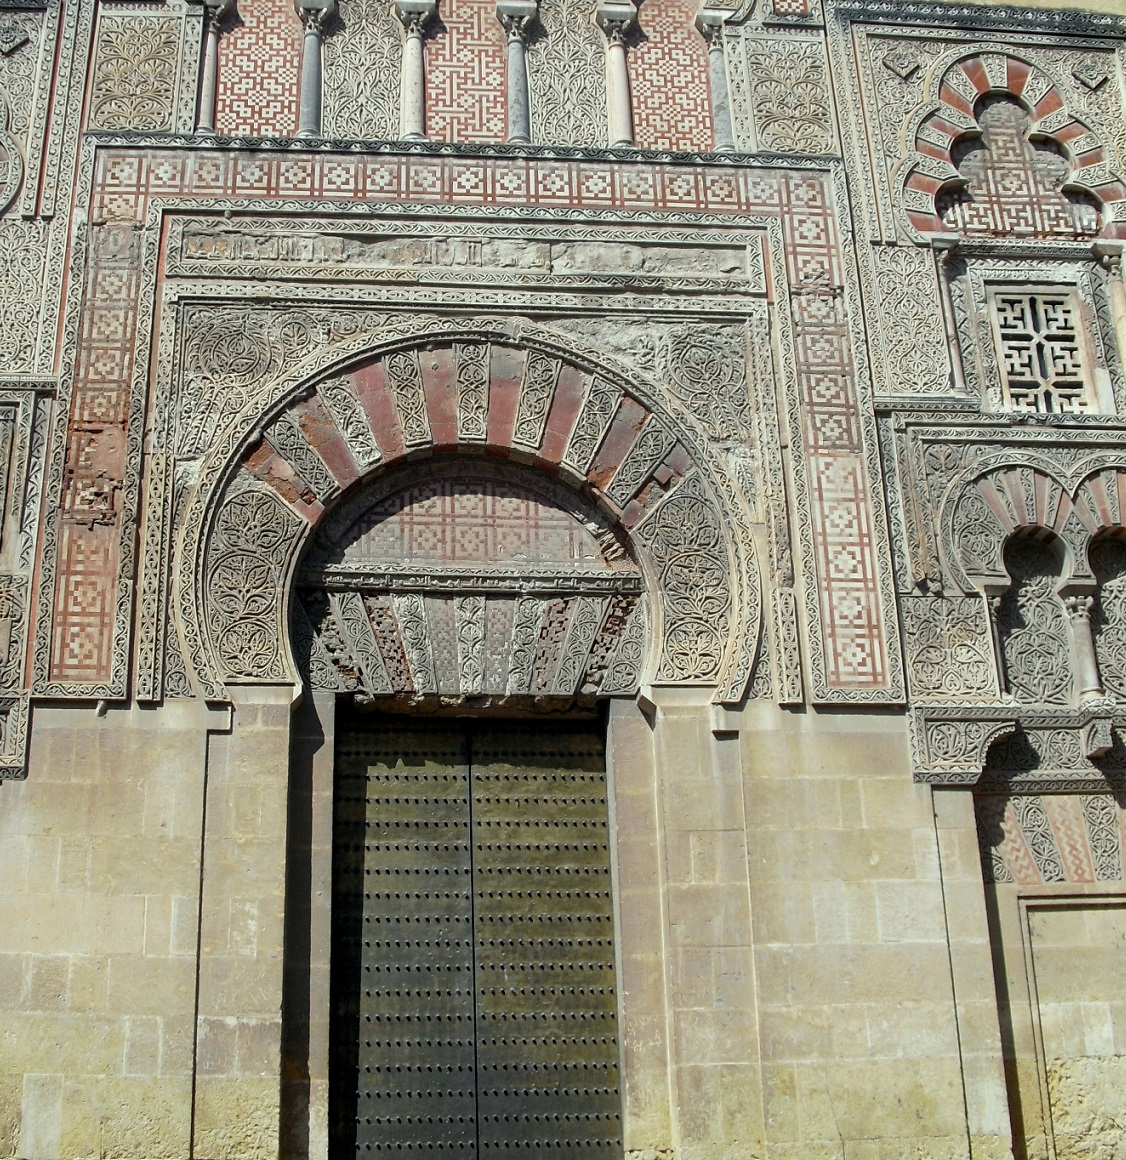arco-herradura: (268, 421, 687, 744), (986, 509, 1084, 613)
arco-lobulado: (922, 76, 1121, 262)
dintel-adovelado: (282, 568, 655, 703)
